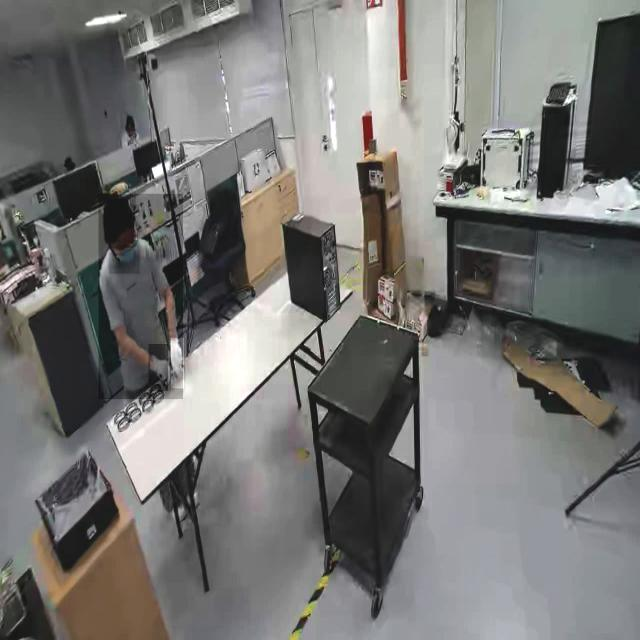face_mask: (108, 230, 140, 274)
hand_glove: (148, 344, 168, 392), (170, 338, 184, 389)
head_nohelmet: (104, 196, 136, 228)
person: (98, 194, 183, 400)
